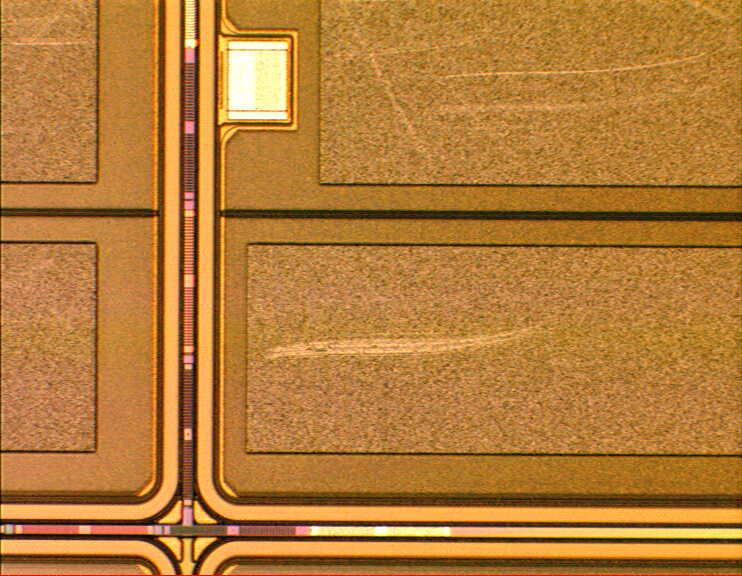SCRATCH: (141, 1, 742, 374)
